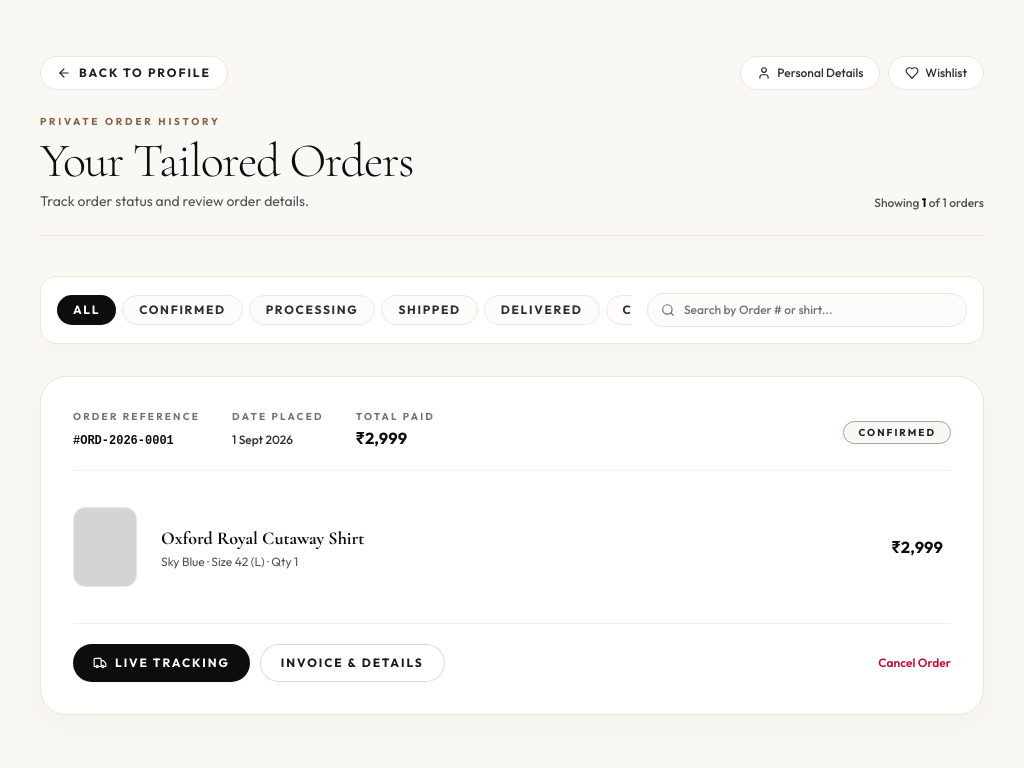
Order Pages Test Suite › OrderListPage › opens cancellation modal when clicking cancel button for a cancellable order
This screenshot has width=1024, height=768.
Step 1. Click the button "Cancel Order" → (915, 663), box [878,655,951,671]
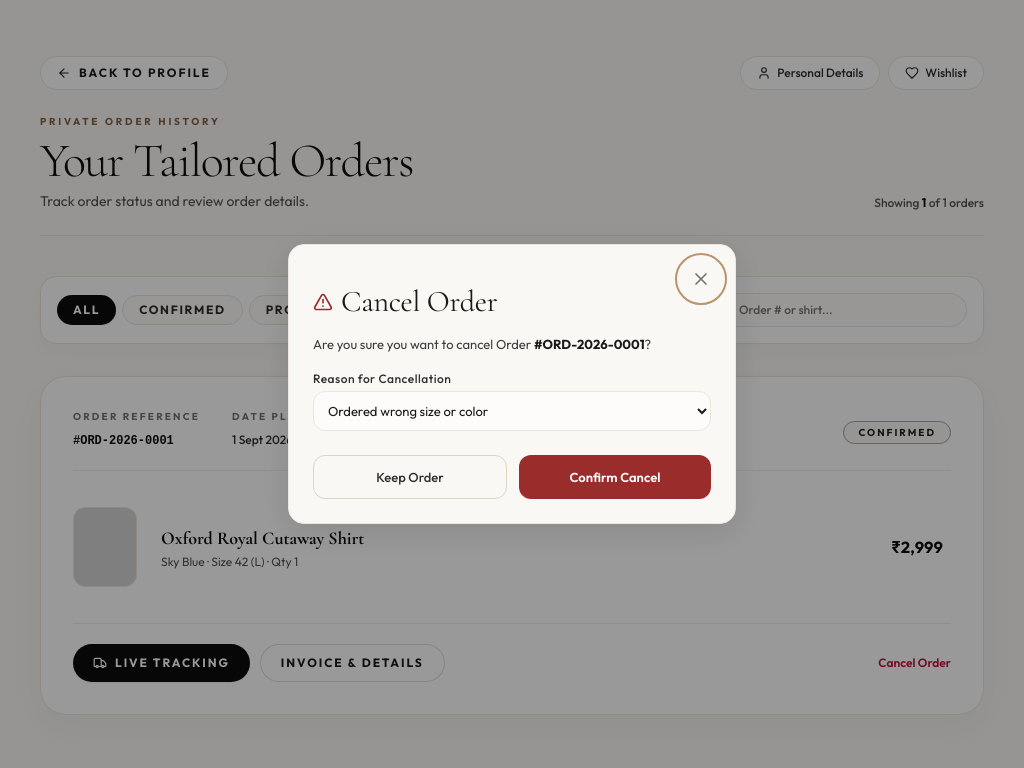
Expected: the heading "Cancel Order" is shown, [341,285,497,319]
Expected: the text "Reason for Cancellation" is shown, [313,371,451,386]
